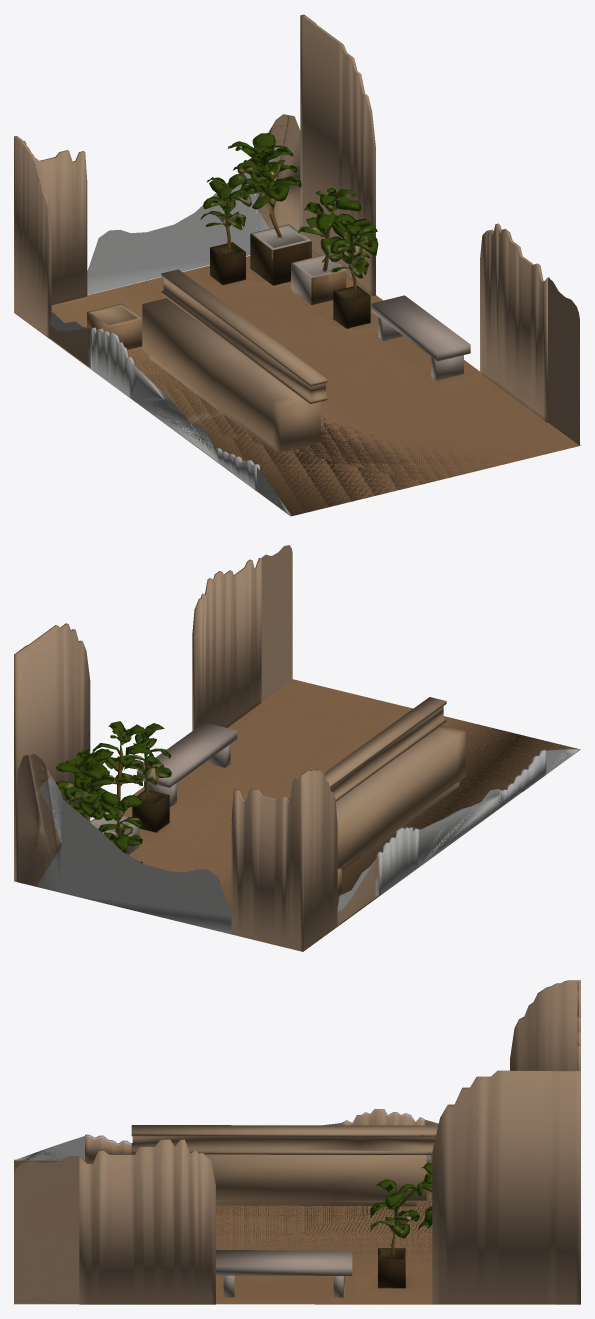
The model's file is original_glb.glb.
The picture shows the model from 3 angles, top to bottom: view 1: azimuth 30°, elevation 25°; view 2: azimuth 150°, elevation 25°; view 3: azimuth 270°, elevation 25°; orthographic projection. The views are drawn at different scales.
Parts seen in each view (by area): view 1: Open Front Reception Stage; view 2: Open Front Reception Stage; view 3: Open Front Reception Stage.
Boxes of the visible parts, x1,y1,x2,y2 form: Open Front Reception Stage: [14, 14, 580, 516]; Open Front Reception Stage: [14, 545, 580, 951]; Open Front Reception Stage: [14, 980, 580, 1304].
Bounding box in the file's own units: 0.6035 × 0.4512 × 0.998.
Materials: 1 (1 with a texture image).
